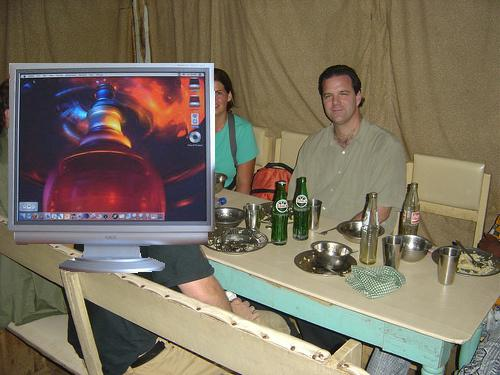tampered: (8, 64, 215, 273)
